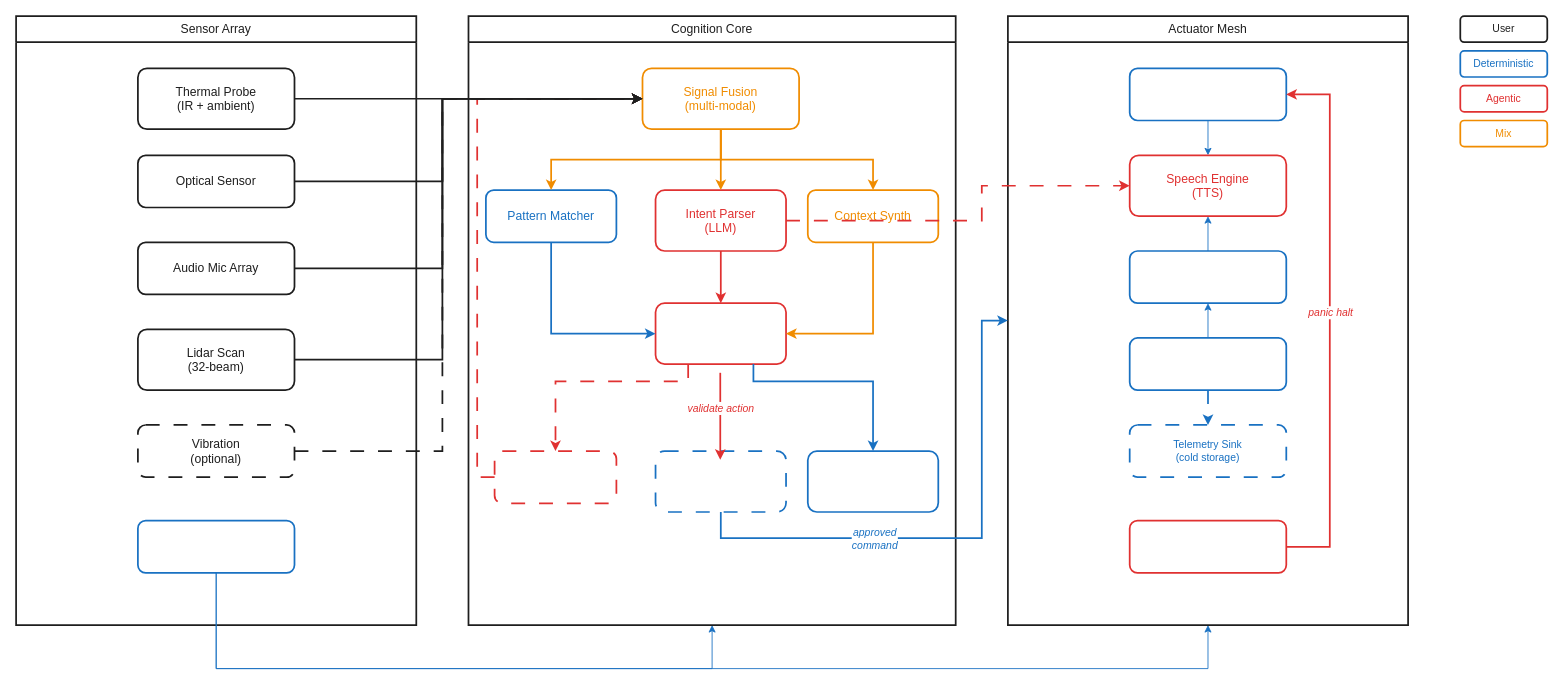
The diagram is 1563 pixels wide and 691 high, and some of its shapes have lost their labels. The centre of each missing label's shape, as x and y in pixels:
Decision Tree (Q-learning): the point at 720,333
Display Panel: the point at 1207,277
E-Stop Relay: the point at 1207,546
Haptic Engine: the point at 1207,364
Memory Store (episodic): the point at 872,481
Motor Control: the point at 1207,94
Policy Gate (safety check): the point at 720,481
Replan Trigger: the point at 555,477
Sensor Health Monitor: the point at 216,546
